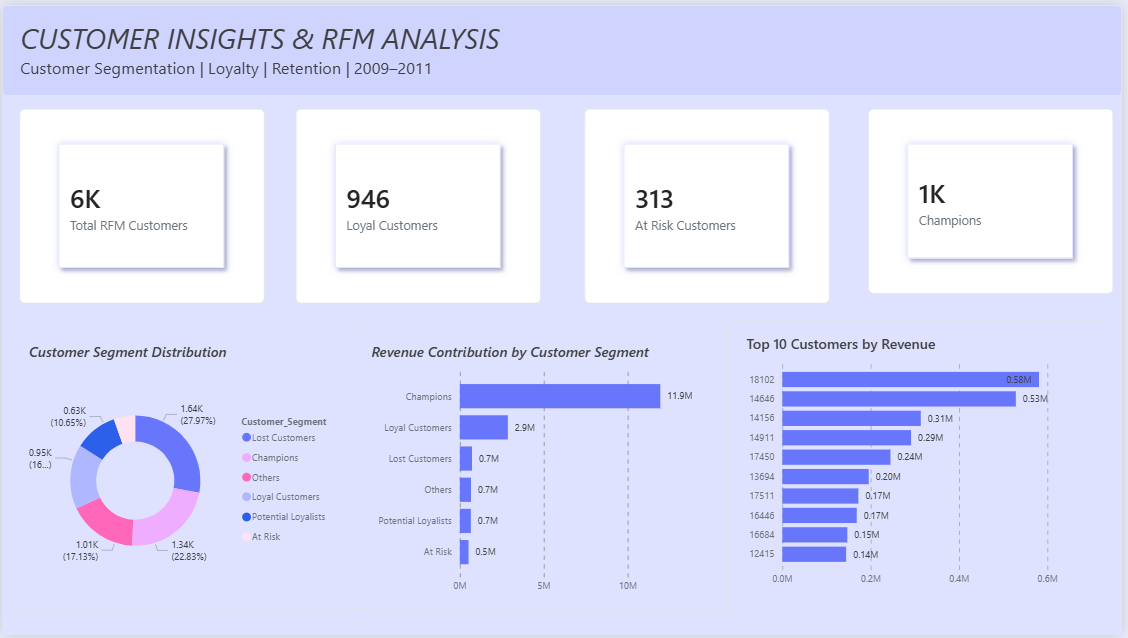

The dashboard page shown, as its layout file describes it:
{"tool":"powerbi","page":{"name":"Customer Insights & RFM Analysis","canvas":[1280,720],"ordinal":1},"visuals":[{"type":"cardVisual","fields":{"Data":["customer_rfm_analysis.Total RFM Customers"]},"box":[20.6,118,279.9,222.3],"z":0},{"type":"cardVisual","fields":{"Data":["customer_rfm_analysis.At Risk Customers"]},"box":[665.5,118,279.9,222.3],"z":1000},{"type":"cardVisual","fields":{"Data":["customer_rfm_analysis.Champions"]},"box":[989.4,118,279.9,211.3],"z":2000},{"type":"cardVisual","fields":{"Data":["customer_rfm_analysis.Loyal Customers"]},"box":[336.2,118,279.9,222.3],"z":3000},{"type":"textbox","box":[0,0,1280.3,104.3],"z":4000},{"type":"donutChart","title":"Customer Segment Distribution","fields":{"Category":["customer_rfm_analysis.Customer_Segment"],"Y":["Count(customer_rfm_analysis.CustomerID)"]},"box":[9.6,369.1,397.9,323.8],"z":5000},{"type":"clusteredBarChart","title":"Revenue Contribution by Customer Segment","fields":{"Category":["ecommerce_analytics customer_rfm_analysis.Customer_Segment"],"Y":["Sum(ecommerce_analytics customer_rfm_analysis.Monetary)"]},"box":[402.1,369.1,428.1,323.8],"z":6000},{"type":"clusteredBarChart","title":"Top 10 Customers by Revenue","fields":{"Category":["customer_rfm_analysis.CustomerID"],"Y":["Sum(customer_rfm_analysis.Monetary)"]},"box":[830.2,359.5,422.6,323.8],"z":7000}]}

Visuals, with their boxes in screenshot pixels (x1, y1, x2, y2), scaled from the page's 1280x720 canvas onto the 1128x638 screenshot:
cardVisual - customer_rfm_analysis.Total RFM Customers: [18,105,265,302]
cardVisual - customer_rfm_analysis.At Risk Customers: [586,105,833,302]
cardVisual - customer_rfm_analysis.Champions: [872,105,1119,292]
cardVisual - customer_rfm_analysis.Loyal Customers: [296,105,543,302]
textbox: [0,0,1127,92]
"Customer Segment Distribution" donutChart: [8,327,359,614]
"Revenue Contribution by Customer Segment" clusteredBarChart: [354,327,732,614]
"Top 10 Customers by Revenue" clusteredBarChart: [732,319,1104,605]
